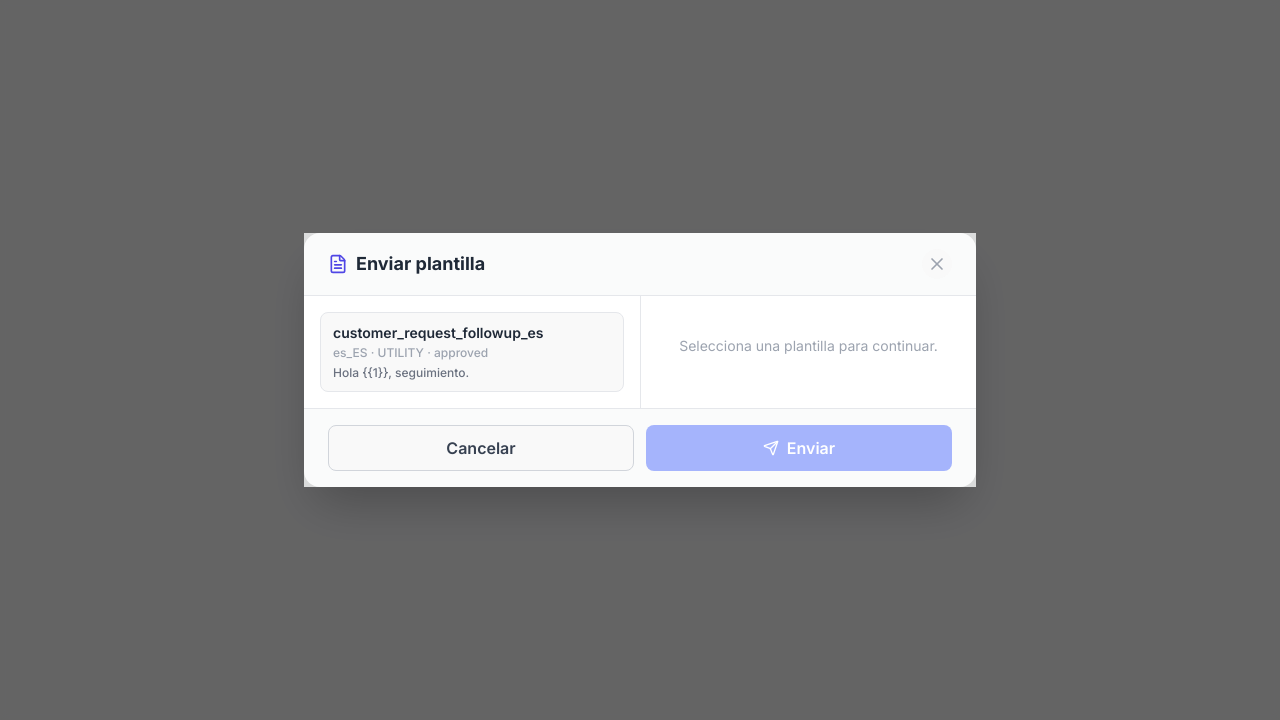
Test case: SendTemplateModal › leaves the send button disabled while a required parameter is empty
Click the text "customer_request_followup_es": (438, 333) [333, 323, 543, 343]
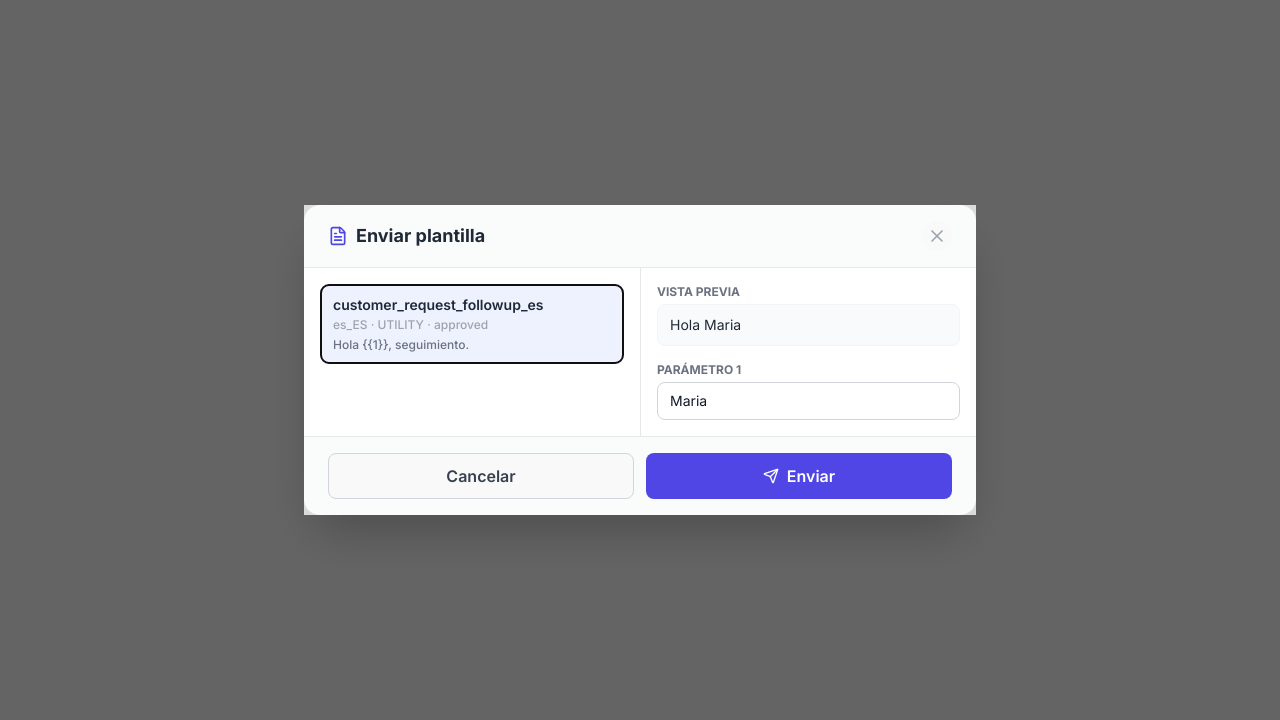
Clear the field labelled "Parámetro 1": (808, 401) [657, 382, 960, 420]
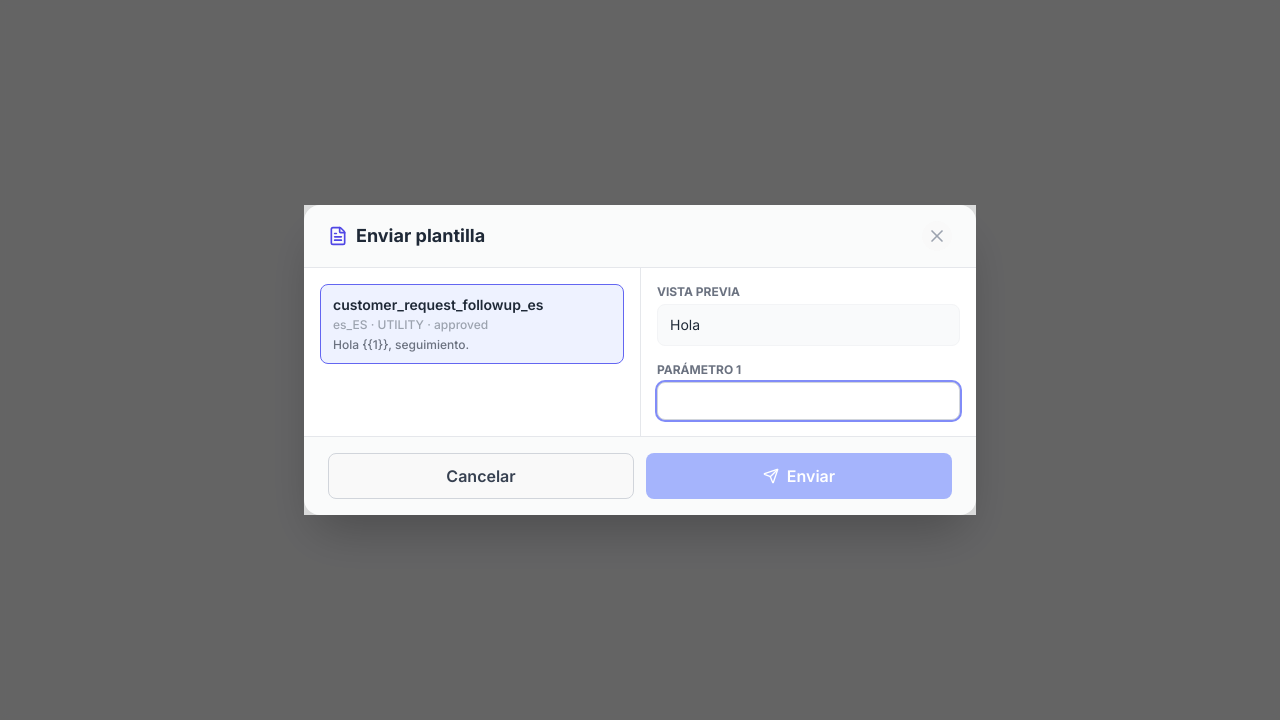
Now the button "Enviar" is disabled, box [646, 453, 952, 499]
